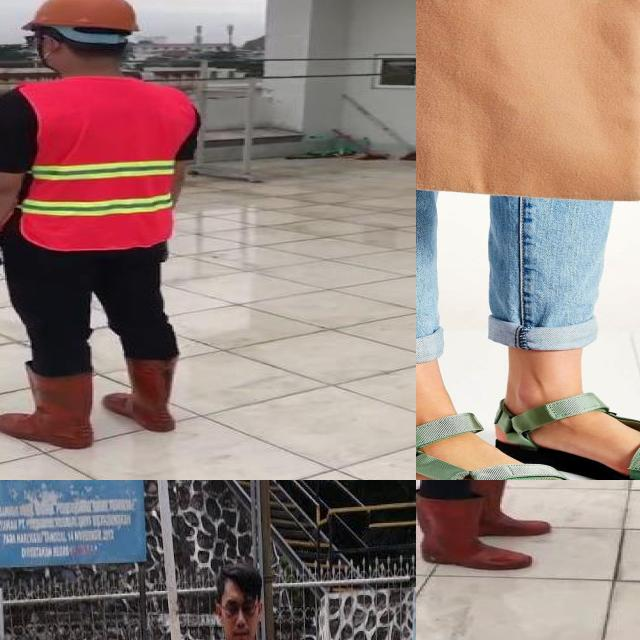Sandals: (416, 388, 618, 480), (493, 367, 640, 480)
boots: (416, 488, 534, 574), (0, 363, 94, 448), (102, 356, 176, 434), (466, 480, 549, 538)
head_helmet: (16, 0, 146, 33)
person: (0, 0, 206, 452), (159, 549, 321, 640), (416, 480, 564, 574)
vest: (3, 77, 195, 250)
